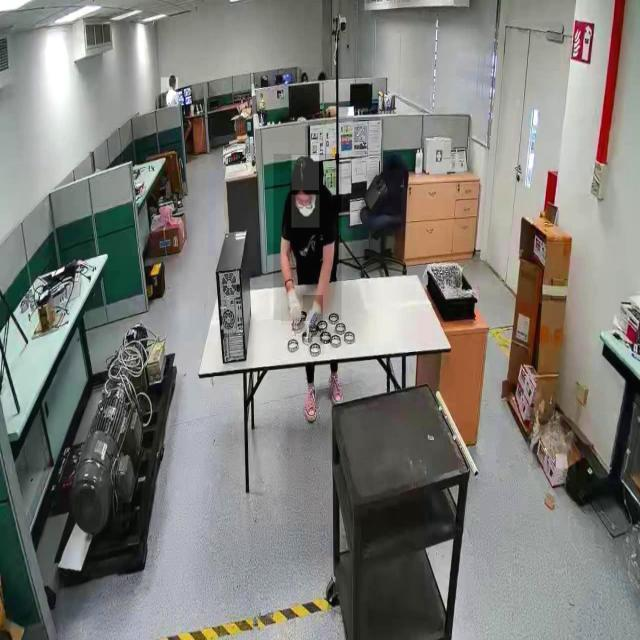face_mask: (292, 195, 320, 228)
hand_glove: (280, 284, 302, 326), (302, 295, 323, 338)
head_nohelmet: (291, 155, 319, 191), (169, 75, 177, 81)
person: (273, 154, 341, 321), (160, 78, 178, 108)
shoes: (301, 382, 321, 428), (324, 367, 345, 409)
